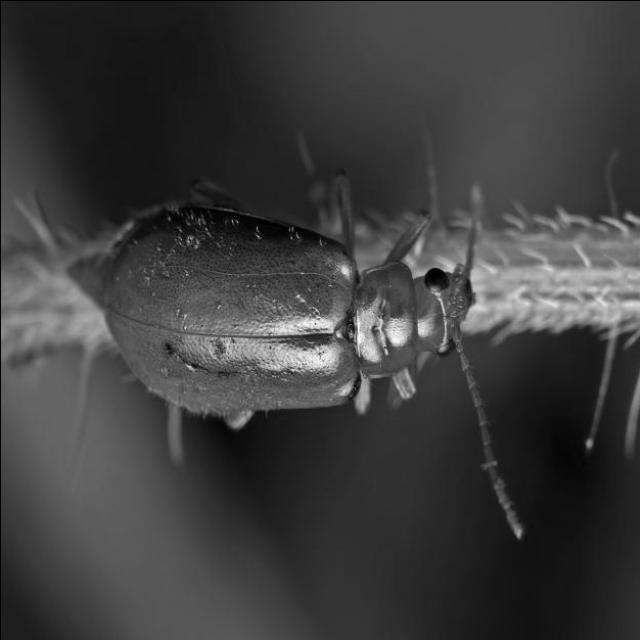Pumpkin Beetle: (51, 116, 527, 547)
